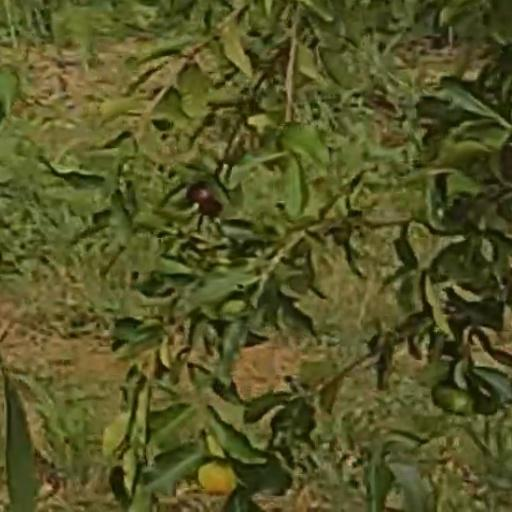acerola: (201, 463, 236, 497), (191, 186, 218, 217)
